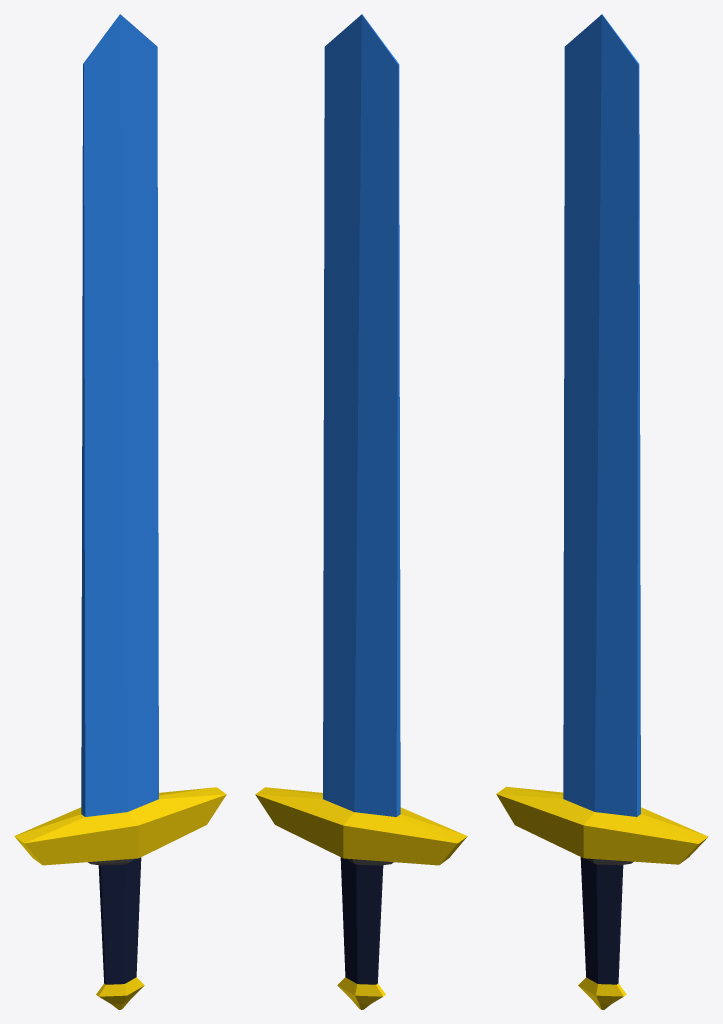
File: Mythral_Sword.fbx
3 renders of one model, left to right at view 1: azimuth 30°, elevation 25°; view 2: azimuth 150°, elevation 25°; view 3: azimuth 330°, elevation 25°, orthographic.
Visible parts, largest first — view 1: Cube.002; view 2: Cube.002; view 3: Cube.002.
Boxes of the visible parts, bbox=[...] form: Cube.002: bbox=[14, 14, 226, 1009]; Cube.002: bbox=[255, 14, 467, 1009]; Cube.002: bbox=[496, 14, 708, 1009].
Bounding box in the file's own units: 56.38 × 265 × 17.82.
